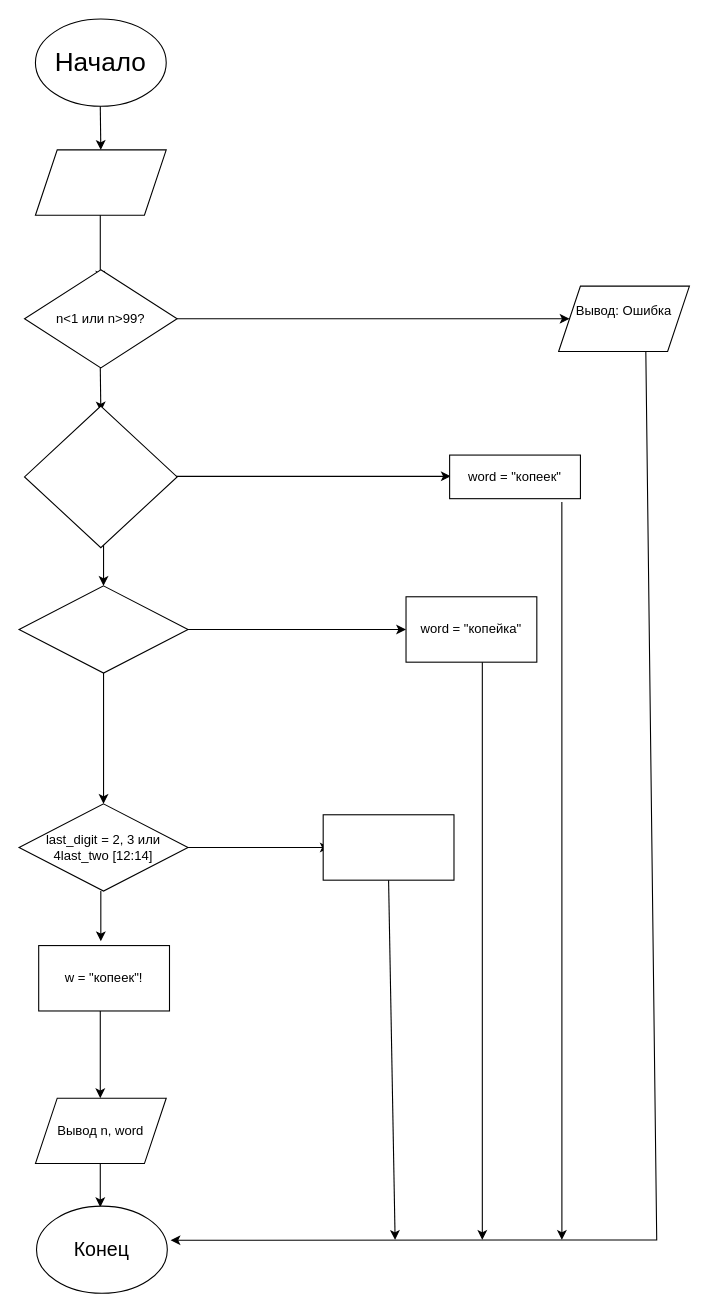
The diagram is 709 pixels wide and 1312 high, and some of its shapes have lost their labels. Here are the shapes that lost their labels. From the top down, the box of each, then its label:
(34, 149, 166, 215): Ввод n
(23, 405, 177, 548): last_digit = n % 10 last_two = n % 100
(18, 585, 188, 673): last_digit == 1last_two != 11&
(322, 814, 454, 880): word = "копейки"
